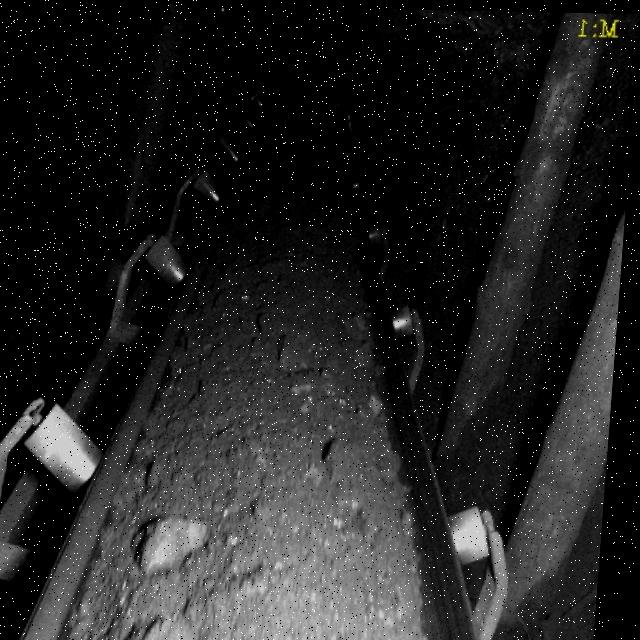large_sized_coal: (140, 514, 213, 573)
